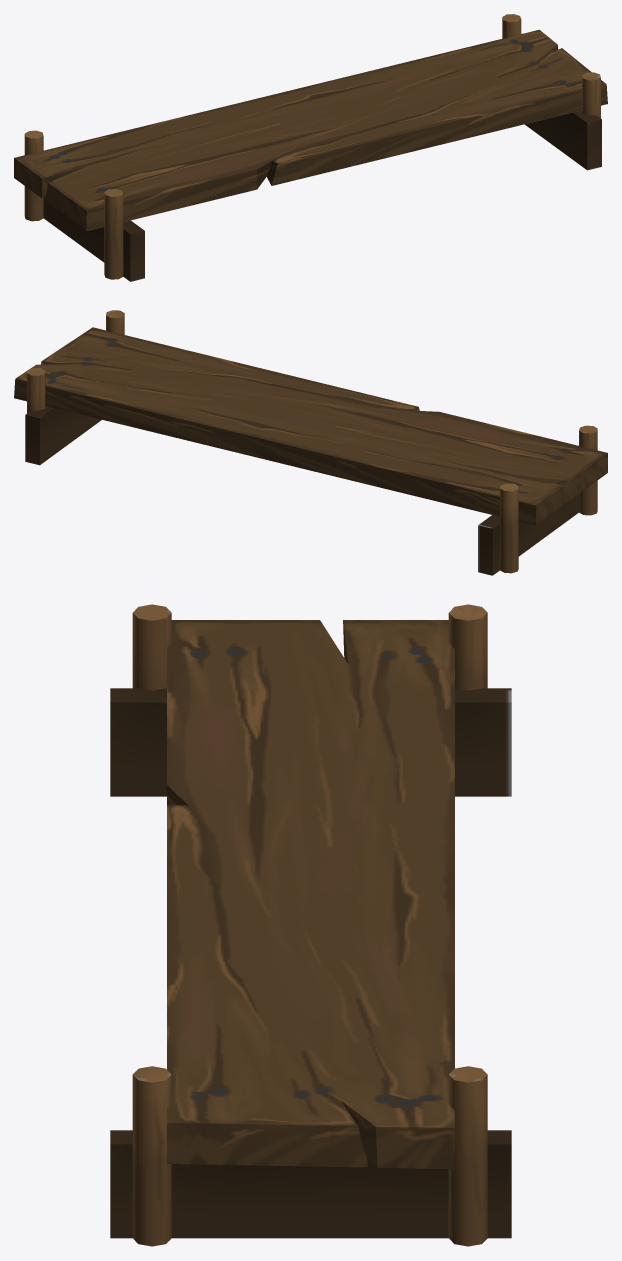
Rendered from sm_plankBridge.fbx.
The picture shows the model from 3 angles, top to bottom: view 1: azimuth 30°, elevation 25°; view 2: azimuth 150°, elevation 25°; view 3: azimuth 270°, elevation 25°; orthographic projection. The views are drawn at different scales.
Visible parts, largest first — view 1: sm_p_bridge; view 2: sm_p_bridge; view 3: sm_p_bridge.
Part boxes in pixels (x1,y1,x2,y2): sm_p_bridge: (14,14,607,281); sm_p_bridge: (14,310,607,575); sm_p_bridge: (110,604,511,1246).
Size of the model in its own units: 314 by 47.16 by 105.
